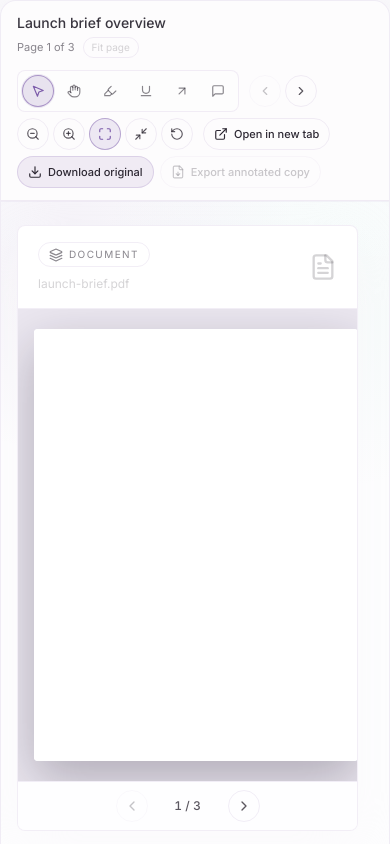
Scenario: ArtifactStage › shows an always-available in-canvas pager for multi-page PDFs
Expected: the text "Page 1 of 3" is shown, x1=17 y1=39 x2=75 y2=56
Expected: the text with test id "artifact-pdf-pager-indicator" reads "1 / 3", x1=174 y1=798 x2=201 y2=812
Click the button named "Go to next page" at (244, 806), box x1=228 y1=790 x2=260 y2=822
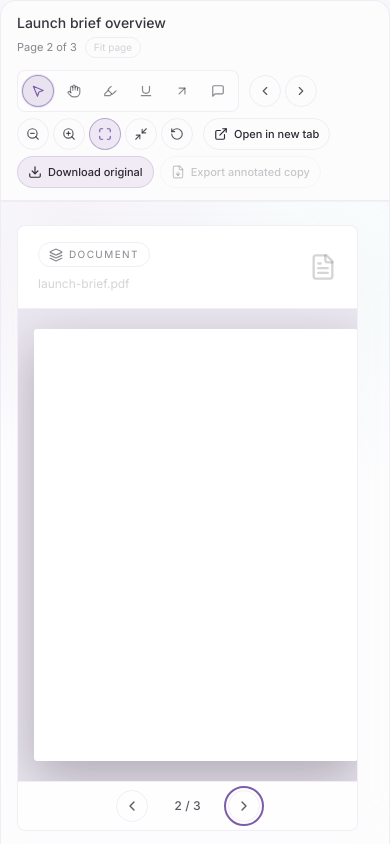
Expected: the button named "Go to previous page" is enabled, x1=116 y1=790 x2=148 y2=822
Expected: the text "Page 2 of 3" is shown, x1=17 y1=39 x2=77 y2=56
Expected: the text with test id "artifact-pdf-pager-indicator" reads "2 / 3", x1=174 y1=798 x2=201 y2=812
Click the button named "Go to next page" at (244, 806), box x1=228 y1=790 x2=260 y2=822
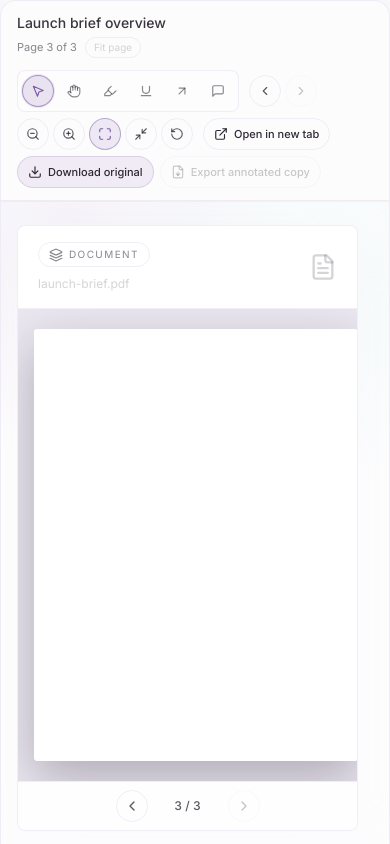
Expected: the text "Page 3 of 3" is shown, x1=17 y1=39 x2=77 y2=56
Expected: the button named "Go to next page" is disabled, x1=228 y1=790 x2=260 y2=822
Click the button named "Go to previous page" at (132, 806), box x1=116 y1=790 x2=148 y2=822
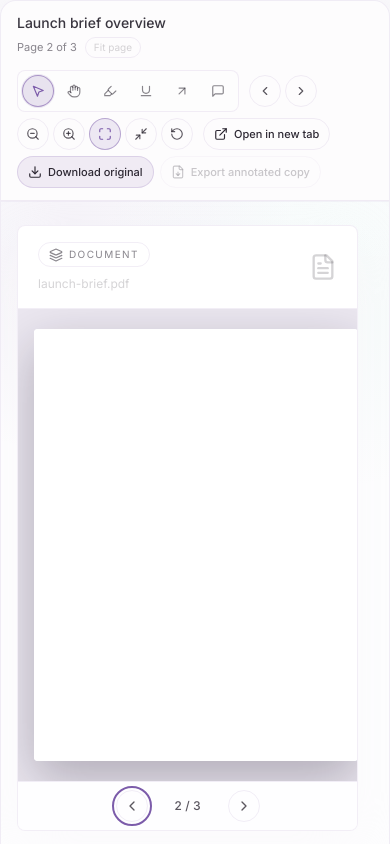
Expected: the text "Page 2 of 3" is shown, x1=17 y1=39 x2=77 y2=56
